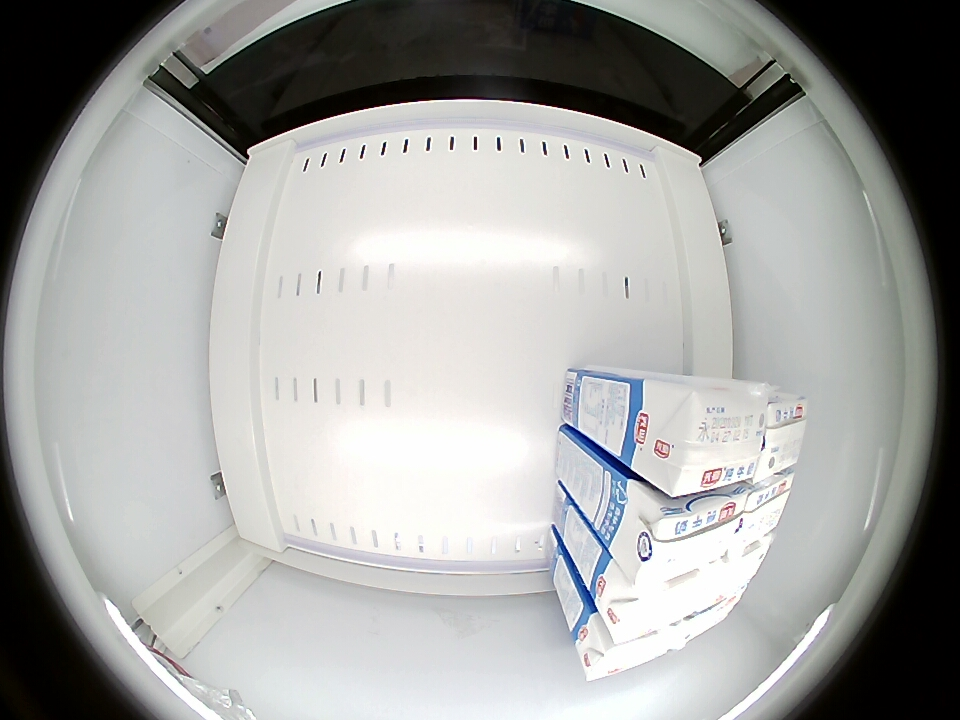niunai: (628, 377, 772, 498), (623, 476, 747, 580), (597, 562, 699, 644), (575, 616, 675, 682), (728, 467, 794, 561), (695, 536, 769, 611), (751, 388, 807, 482), (672, 594, 736, 648)
